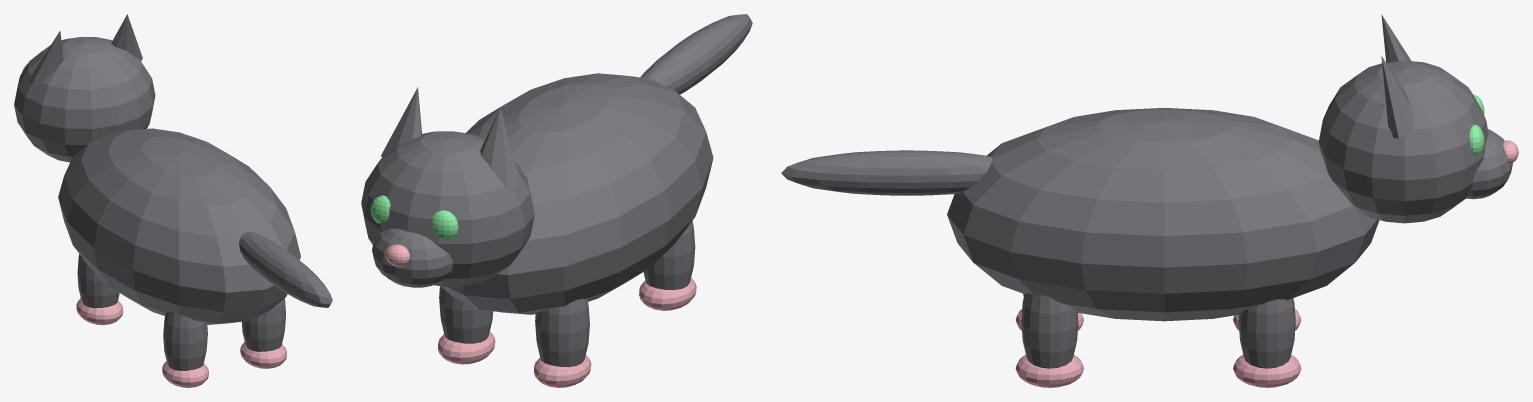
File: variant_cat_black.glb
The picture shows the model from 3 angles, left to right: view 1: azimuth 30°, elevation 25°; view 2: azimuth 150°, elevation 25°; view 3: azimuth 270°, elevation 25°; orthographic projection. The views are drawn at different scales.
Parts seen in each view (by area): view 1: Cat; view 2: Cat; view 3: Cat.
Boxes of the visible parts, x1,y1,x2,y2 form: Cat: (14, 14, 332, 387); Cat: (361, 14, 752, 387); Cat: (781, 14, 1518, 387).
Bounding box in the file's own units: 0.3369 × 0.48 × 0.9878.
